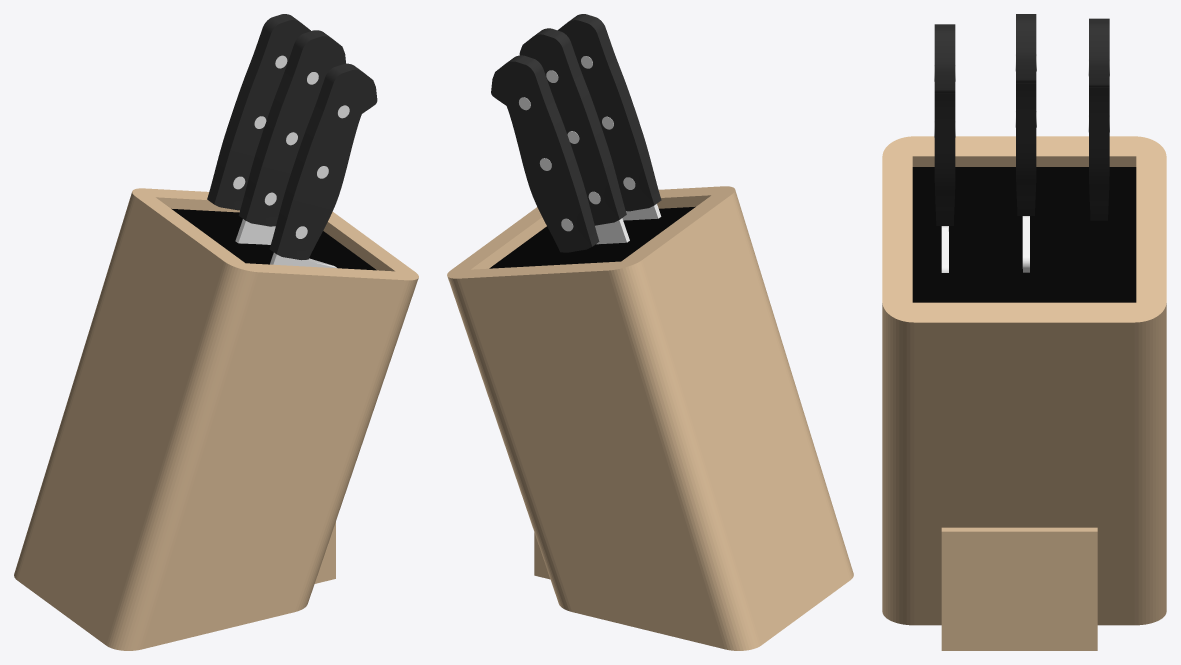
File: knives.fbx
3 views of the same model, side by side, from view 1: azimuth 30°, elevation 25°; view 2: azimuth 150°, elevation 25°; view 3: azimuth 270°, elevation 25° (orthographic). The views are drawn at different scales.
Parts seen in each view (by area): view 1: Cube.183, Cube.185, Cube.102, Cube.187, Cube.184, Cube.189; view 2: Cube.183, Cube.187, Cube.185, Cube.102, Cube.184; view 3: Cube.183, Cube.189, Cube.185, Cube.187, Cube.102, Cube.184.
Boxes of the visible parts, x1,y1,x2,y2 form: Cube.183: (14,188,418,650); Cube.185: (269,63,377,260); Cube.102: (238,30,345,226); Cube.187: (207,14,310,210); Cube.184: (235,219,275,244); Cube.189: (314,522,335,583); Cube.183: (447,186,853,650); Cube.187: (491,55,599,252); Cube.185: (557,14,661,211); Cube.102: (519,28,626,225); Cube.184: (595,218,629,244); Cube.183: (882,136,1166,625); Cube.189: (941,527,1097,650); Cube.185: (934,24,955,225); Cube.187: (1089,18,1109,220); Cube.102: (1016,14,1036,215); Cube.184: (1022,216,1029,272).
Bounding box in the file's own units: 144 × 230 × 92.59.
